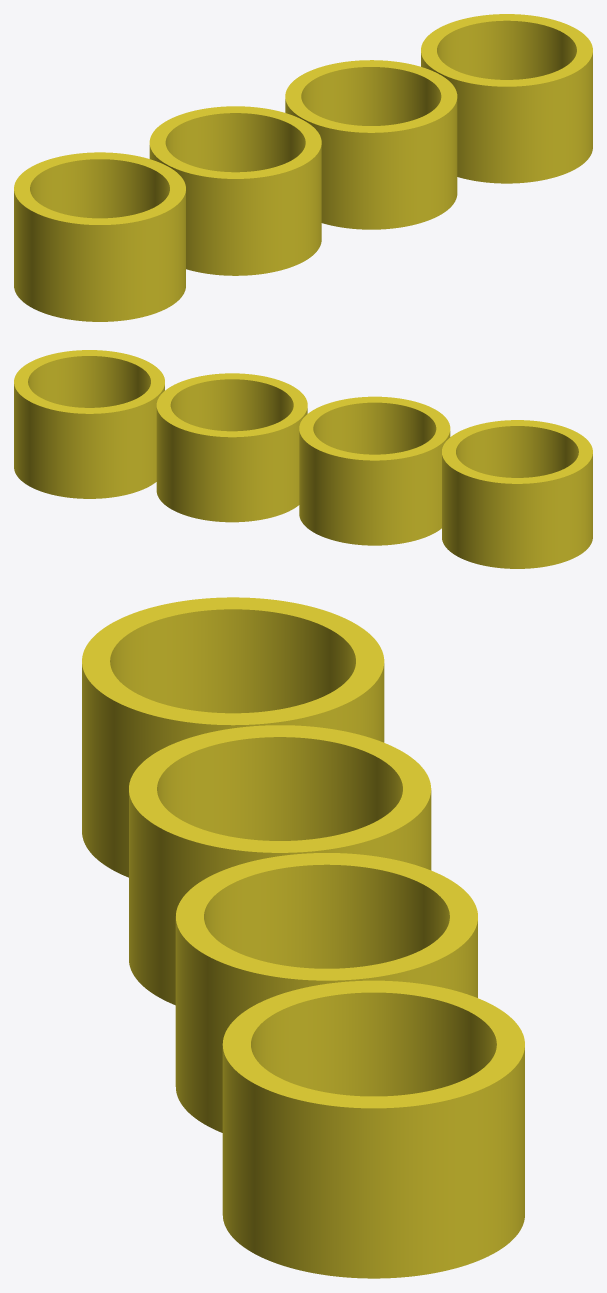
File: openscad_table-tube-feet.glb
3 renders of one model, top to bottom at view 1: azimuth 30°, elevation 25°; view 2: azimuth 150°, elevation 25°; view 3: azimuth 270°, elevation 25°, orthographic. The views are drawn at different scales.
Parts seen in each view (by area): view 1: object; view 2: object; view 3: object.
Part boxes in pixels (x1=…): object: x1=14, y1=14, x2=592, y2=321; object: x1=14, y1=350, x2=592, y2=568; object: x1=82, y1=597, x2=524, y2=1278.
Bounding box in the file's own units: 129 × 20 × 47.2.
